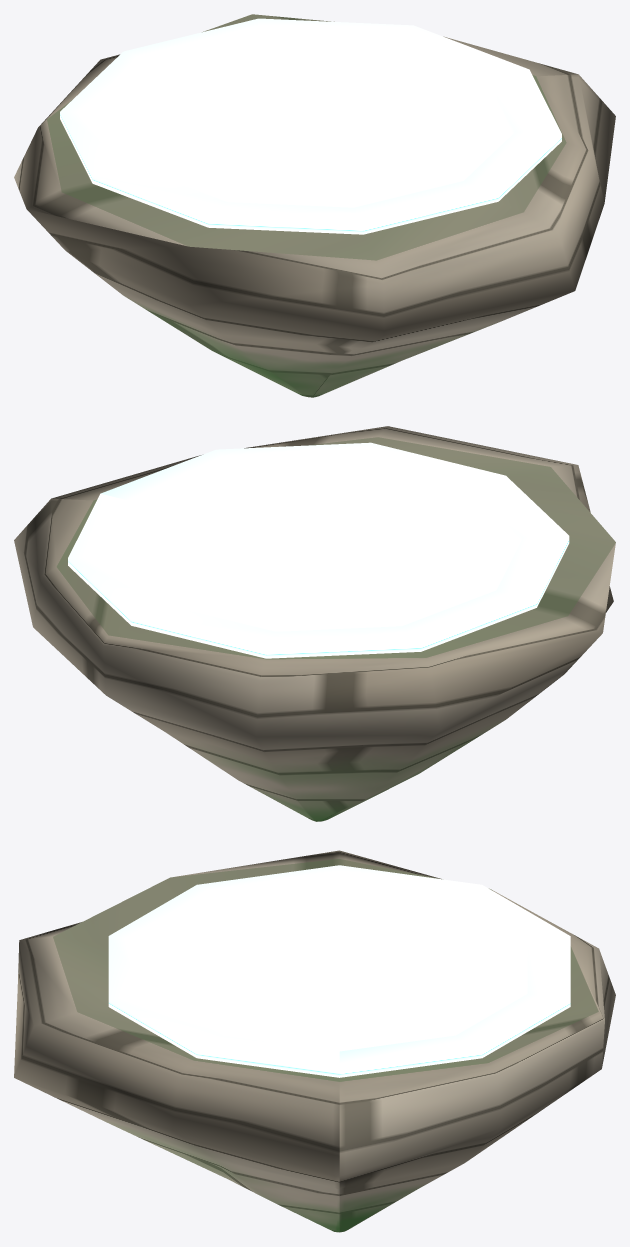
The model's file is platform.glb.
The picture shows the model from 3 angles, top to bottom: view 1: azimuth 30°, elevation 25°; view 2: azimuth 150°, elevation 25°; view 3: azimuth 270°, elevation 25°; orthographic projection. The views are drawn at different scales.
Visible parts, largest first — view 1: platform; view 2: platform; view 3: platform.
Boxes of the visible parts, <box> form: platform: <box>14,14,615,397</box>; platform: <box>14,426,615,821</box>; platform: <box>14,850,615,1232</box>.
Size of the model in its own units: 146 by 64 by 134.
Materials: 2 (1 with a texture image).
